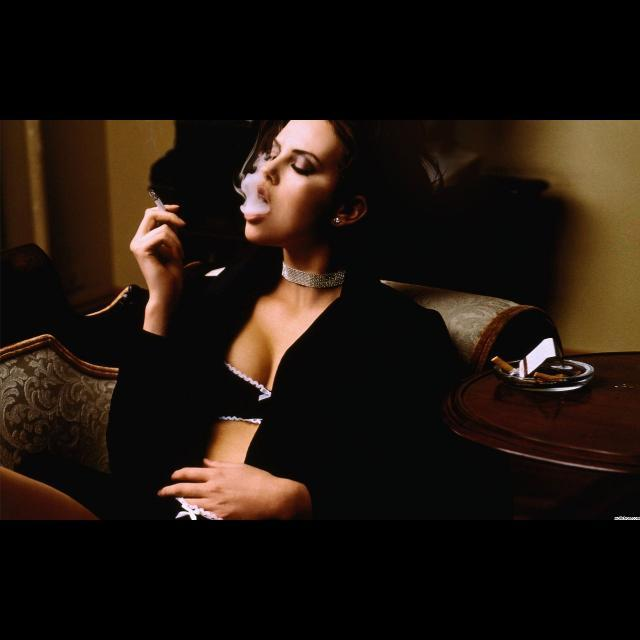rokok: (148, 190, 170, 212)
